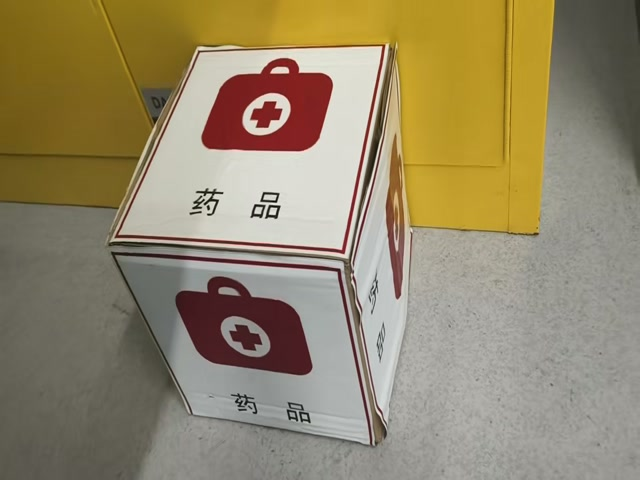Cube_medicine: (108, 45, 396, 265)
